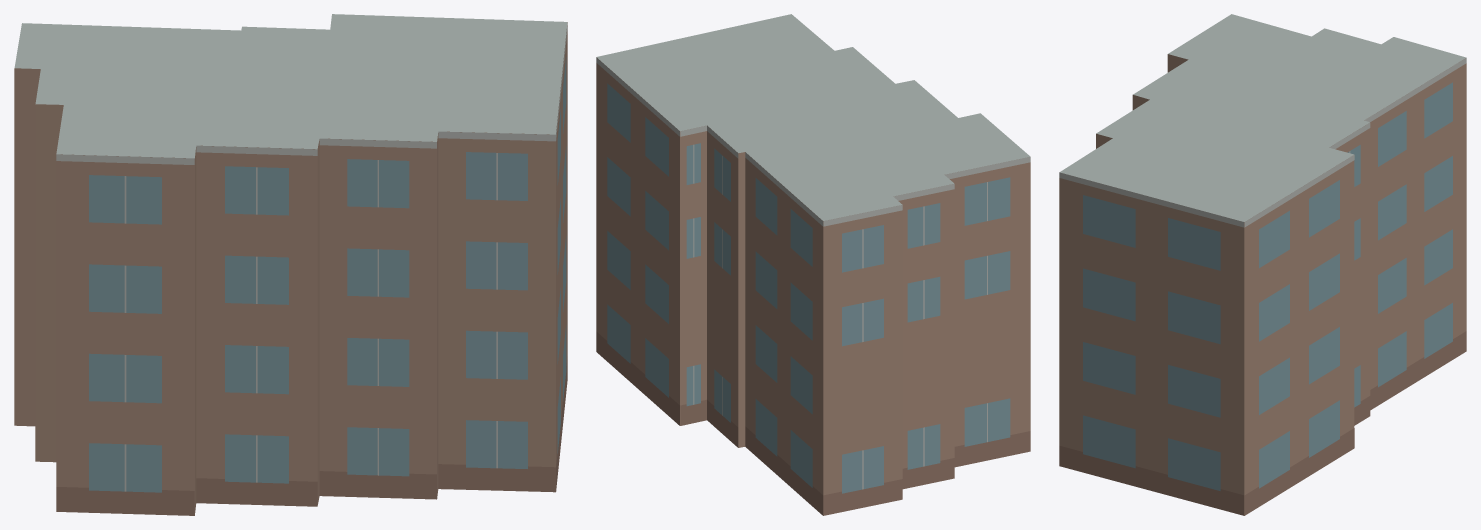
File: survey-upis-32661340.glb
The picture shows the model from 3 angles, left to right: view 1: azimuth 30°, elevation 25°; view 2: azimuth 150°, elevation 25°; view 3: azimuth 270°, elevation 25°; orthographic projection. The views are drawn at different scales.
Visible parts, largest first — view 1: survey-upis-32661340.tmp; view 2: survey-upis-32661340.tmp; view 3: survey-upis-32661340.tmp.
Boxes of the visible parts, <box> form: survey-upis-32661340.tmp: <box>14,14,567,515</box>; survey-upis-32661340.tmp: <box>596,14,1030,515</box>; survey-upis-32661340.tmp: <box>1059,14,1466,515</box>.
Bounding box in the file's own units: 19.61 × 12.9 × 16.21.
